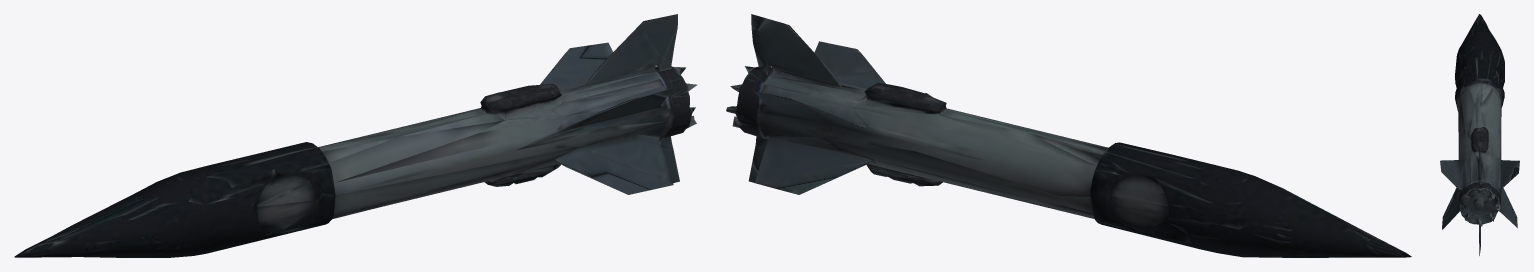
The model's file is w_micromissile.glb.
3 renders of one model, left to right at view 1: azimuth 30°, elevation 25°; view 2: azimuth 150°, elevation 25°; view 3: azimuth 270°, elevation 25°, orthographic. The views are drawn at different scales.
Size of the model in its own units: 1.9 by 0.4553 by 0.3308.
1 material, 1 textured.
